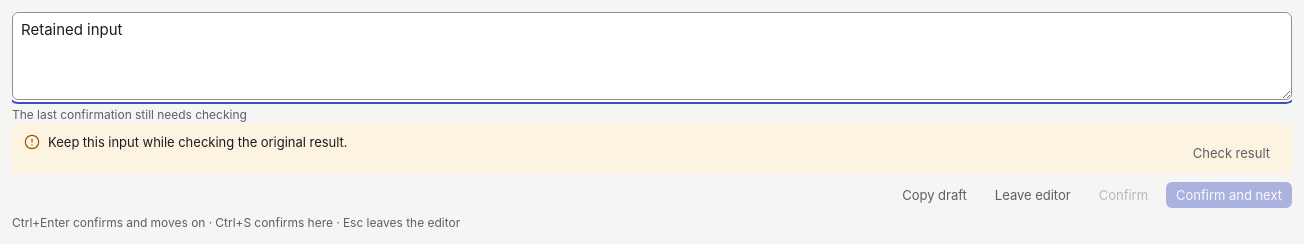
Scenario: preserves unknown input after mismatch and withholds replay
The width and height of the screenshot is (1304, 244).
Click the button "Check result" at (1231, 153), box [1183,140,1280,166]
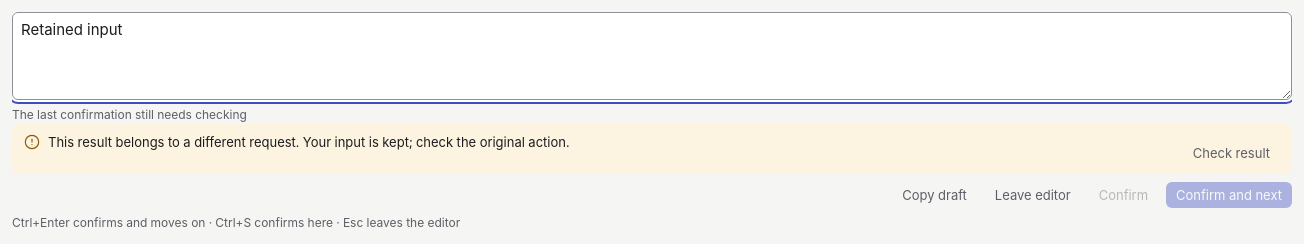
expect the text box named "Translation for dialogue.hello" holds "Retained input": met, box [12,12,1292,100]
expect the text "This result belongs to a different request. Your input is kept; check the original action." is shown: met, box [48,134,569,150]
